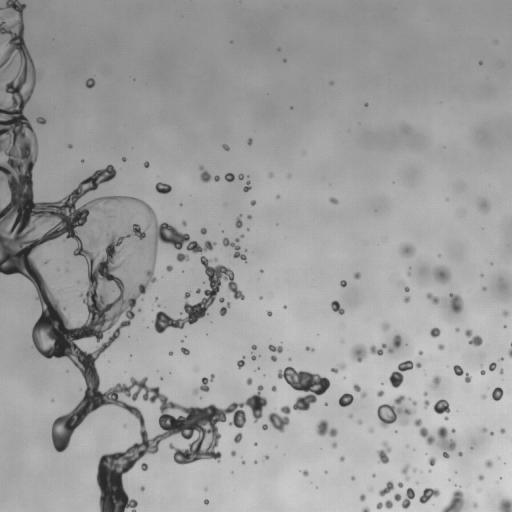droplet: (393, 487, 415, 509), (315, 419, 338, 437), (376, 440, 391, 464), (432, 265, 451, 283), (419, 488, 440, 503), (465, 329, 483, 346), (432, 398, 450, 414), (398, 242, 415, 258), (330, 300, 345, 315), (338, 393, 354, 407), (477, 197, 490, 213), (400, 463, 411, 481), (497, 497, 511, 511), (155, 182, 171, 194), (268, 341, 283, 353), (376, 499, 393, 509), (492, 386, 503, 401), (430, 375, 441, 389), (176, 252, 190, 262), (429, 327, 441, 338), (6, 71, 17, 82), (2, 94, 13, 105), (232, 178, 243, 189), (96, 182, 107, 193), (53, 191, 64, 202), (49, 192, 60, 203), (0, 193, 11, 204), (467, 202, 478, 213), (189, 230, 200, 241), (212, 243, 223, 254), (188, 251, 199, 262), (438, 256, 449, 267), (225, 258, 236, 269), (153, 265, 164, 276), (448, 269, 459, 280), (24, 279, 35, 290), (441, 281, 452, 292), (217, 284, 228, 295), (437, 288, 448, 299), (188, 294, 199, 305), (460, 297, 471, 308), (207, 302, 218, 313), (343, 340, 354, 351), (364, 352, 375, 363), (345, 357, 356, 368), (275, 358, 286, 369), (468, 366, 479, 377), (76, 378, 87, 389), (396, 383, 407, 394), (245, 385, 256, 396), (388, 386, 399, 397), (236, 392, 247, 403), (383, 392, 394, 403), (215, 398, 226, 409), (61, 404, 72, 415), (412, 406, 423, 417), (288, 409, 299, 420), (84, 411, 95, 422), (171, 432, 182, 443), (178, 439, 189, 450), (430, 445, 441, 456), (252, 447, 263, 458), (198, 456, 209, 467), (186, 460, 197, 471), (120, 472, 131, 483), (91, 486, 102, 497), (369, 492, 380, 503), (440, 494, 451, 505), (461, 494, 472, 505), (365, 496, 376, 507), (453, 364, 463, 375), (233, 431, 242, 443), (85, 78, 95, 88), (224, 172, 234, 182), (381, 321, 390, 332), (428, 455, 437, 466), (502, 357, 511, 368), (243, 180, 251, 192), (400, 124, 410, 133), (180, 347, 190, 356), (484, 459, 493, 468), (86, 190, 95, 199), (245, 190, 254, 199), (31, 194, 40, 203), (487, 196, 496, 205), (74, 199, 83, 208), (243, 204, 252, 213), (176, 225, 185, 234), (405, 236, 414, 245), (157, 240, 166, 249), (203, 249, 212, 258), (405, 255, 414, 264), (171, 259, 180, 268), (11, 271, 20, 280), (219, 278, 228, 287), (230, 297, 239, 306), (169, 310, 178, 319), (409, 353, 418, 362), (93, 359, 102, 368), (97, 383, 106, 392), (394, 385, 403, 394), (197, 399, 206, 408), (400, 399, 409, 408), (97, 404, 106, 413), (242, 405, 251, 414), (260, 406, 269, 415), (259, 414, 268, 423), (309, 422, 318, 431), (428, 427, 437, 436), (191, 429, 200, 438), (158, 439, 167, 448), (333, 447, 342, 456), (220, 450, 229, 459), (141, 453, 150, 462), (435, 455, 444, 464), (89, 466, 98, 475), (480, 466, 489, 475), (413, 488, 422, 497), (385, 491, 394, 500), (410, 496, 419, 505), (392, 500, 401, 509), (464, 372, 471, 383), (422, 399, 429, 409), (0, 153, 6, 164), (505, 314, 511, 325), (90, 505, 101, 511), (200, 505, 211, 511), (392, 505, 403, 511), (458, 505, 469, 511), (490, 505, 501, 511), (329, 197, 338, 204), (141, 462, 148, 471), (299, 469, 308, 476), (222, 144, 230, 151), (166, 264, 173, 272), (353, 272, 361, 279), (403, 295, 410, 303), (246, 377, 253, 385), (377, 390, 385, 397), (0, 79, 5, 90), (0, 89, 5, 100), (0, 199, 5, 210), (3, 21, 10, 28), (4, 33, 11, 40), (22, 34, 29, 41), (99, 162, 106, 169), (30, 167, 37, 174), (208, 169, 215, 176), (85, 170, 92, 177), (30, 174, 37, 181), (239, 179, 246, 186), (65, 187, 72, 194), (240, 216, 247, 223), (156, 217, 163, 224), (238, 226, 245, 233), (197, 239, 204, 246), (181, 240, 188, 247), (166, 242, 173, 249), (179, 246, 186, 253), (227, 246, 234, 253), (186, 249, 193, 256), (208, 260, 215, 267), (152, 270, 159, 277), (431, 289, 438, 296), (214, 291, 221, 298), (325, 304, 332, 311), (431, 304, 438, 311), (445, 305, 452, 312), (34, 310, 41, 317), (181, 311, 188, 318), (196, 316, 203, 323), (501, 316, 508, 323), (148, 322, 155, 329), (165, 325, 172, 332), (119, 326, 126, 333), (458, 329, 465, 336), (471, 329, 478, 336), (434, 335, 441, 342), (386, 340, 393, 347), (363, 342, 370, 349), (501, 350, 508, 357), (60, 355, 67, 362), (243, 356, 250, 363), (495, 361, 502, 368), (307, 366, 314, 373), (135, 374, 142, 381), (426, 374, 433, 381), (384, 379, 391, 386), (145, 380, 152, 387), (438, 380, 445, 387), (398, 382, 405, 389), (347, 387, 354, 394), (298, 389, 305, 396), (259, 390, 266, 397), (351, 390, 358, 397), (77, 391, 84, 398), (166, 395, 173, 402), (377, 397, 384, 404), (387, 398, 394, 405), (417, 399, 424, 406), (428, 399, 435, 406), (308, 401, 315, 408), (226, 412, 233, 419), (396, 412, 403, 419), (408, 414, 415, 421), (420, 420, 427, 427), (215, 421, 222, 428), (326, 422, 333, 429), (360, 422, 367, 429), (387, 422, 394, 429), (413, 425, 420, 432), (73, 426, 80, 433), (232, 426, 239, 433), (493, 429, 500, 436), (445, 431, 452, 438), (323, 432, 330, 439), (333, 434, 340, 441), (135, 436, 142, 443), (419, 436, 426, 443), (47, 441, 54, 448), (231, 442, 238, 449), (376, 443, 383, 450), (454, 444, 461, 451), (118, 445, 125, 452), (107, 447, 114, 454), (208, 457, 215, 464), (245, 458, 252, 465), (492, 459, 499, 466), (134, 460, 141, 467), (397, 474, 404, 481), (392, 486, 399, 493), (399, 488, 406, 495), (379, 495, 386, 502), (360, 500, 367, 507), (238, 173, 244, 181), (400, 419, 408, 425), (331, 440, 337, 448), (359, 493, 365, 501), (361, 506, 370, 511), (506, 426, 511, 435), (506, 492, 511, 501), (368, 506, 377, 511), (379, 506, 388, 511), (200, 227, 206, 234), (64, 267, 71, 273), (340, 280, 346, 287), (266, 310, 273, 316), (502, 310, 508, 317), (437, 344, 444, 350), (270, 355, 277, 361), (192, 366, 199, 372), (270, 384, 276, 391), (367, 427, 374, 433), (230, 450, 236, 457), (339, 456, 345, 463), (397, 481, 403, 488), (250, 200, 256, 206), (181, 220, 187, 226), (261, 424, 267, 430), (481, 427, 487, 433), (412, 467, 418, 473), (478, 474, 484, 480), (472, 502, 478, 508), (247, 138, 252, 145), (500, 427, 505, 434), (144, 161, 149, 167), (268, 172, 273, 178), (195, 288, 201, 293), (219, 297, 224, 303), (480, 369, 485, 375), (480, 394, 486, 399), (357, 419, 362, 425), (368, 486, 373, 492), (204, 499, 209, 505), (507, 322, 511, 329), (123, 507, 130, 511), (355, 507, 362, 511), (403, 507, 410, 511), (471, 507, 478, 511), (247, 214, 252, 219), (168, 350, 173, 355), (348, 413, 353, 418), (140, 486, 145, 491), (0, 0, 5, 5), (8, 6, 13, 11), (21, 8, 26, 13), (13, 10, 18, 15), (22, 20, 27, 25), (30, 54, 35, 59), (481, 58, 486, 63), (32, 59, 37, 64), (33, 62, 38, 67), (34, 73, 39, 78), (87, 73, 92, 78), (93, 76, 98, 81), (5, 78, 10, 83), (80, 81, 85, 86), (89, 86, 94, 91), (32, 87, 37, 92), (30, 93, 35, 98), (43, 114, 48, 119), (243, 136, 248, 141), (36, 138, 41, 143), (251, 139, 256, 144), (113, 165, 118, 170), (224, 168, 229, 173), (197, 169, 202, 174), (82, 174, 87, 179), (219, 175, 224, 180), (233, 175, 238, 180), (242, 176, 247, 181), (209, 177, 214, 182), (108, 178, 113, 183), (165, 179, 170, 184), (224, 180, 229, 185), (202, 181, 207, 186), (72, 184, 77, 189), (108, 191, 113, 196), (114, 191, 119, 196), (121, 191, 126, 196), (159, 192, 164, 197), (134, 193, 139, 198), (332, 193, 337, 198), (145, 199, 150, 204), (148, 202, 153, 207), (329, 202, 334, 207), (185, 218, 190, 223), (231, 218, 236, 223), (167, 220, 172, 225), (205, 227, 210, 232), (222, 232, 227, 237), (188, 236, 193, 241), (208, 237, 213, 242), (228, 237, 233, 242), (238, 248, 243, 253), (155, 254, 160, 259), (235, 256, 240, 261), (181, 259, 186, 264), (200, 265, 205, 270), (353, 267, 358, 272), (170, 268, 175, 273), (203, 274, 208, 279), (359, 274, 364, 279), (232, 277, 237, 282), (236, 285, 241, 290), (452, 290, 457, 295), (229, 291, 234, 296), (403, 291, 408, 296), (139, 292, 144, 297), (421, 294, 426, 299), (330, 296, 335, 301), (409, 296, 414, 301), (135, 298, 140, 303), (426, 298, 431, 303), (399, 299, 404, 304), (221, 301, 226, 306), (338, 303, 343, 308), (158, 306, 163, 311), (268, 306, 273, 311), (504, 306, 509, 311), (131, 307, 136, 312), (154, 307, 159, 312), (225, 307, 230, 312), (498, 313, 503, 318), (151, 314, 156, 319), (129, 318, 134, 323), (184, 321, 189, 326), (192, 321, 197, 326), (435, 323, 440, 328), (466, 324, 471, 329), (426, 326, 431, 331), (27, 329, 32, 334), (439, 330, 444, 335), (426, 333, 431, 338), (467, 335, 472, 340), (480, 335, 485, 340), (114, 337, 119, 342), (28, 339, 33, 344), (399, 340, 404, 345), (110, 341, 115, 346), (273, 342, 278, 347), (307, 342, 312, 347), (183, 343, 188, 348), (469, 343, 474, 348), (376, 344, 381, 349), (505, 344, 510, 349), (443, 345, 448, 350), (392, 346, 397, 351), (32, 347, 37, 352), (104, 347, 109, 352), (382, 347, 387, 352), (281, 348, 286, 353), (252, 349, 257, 354), (438, 349, 443, 354), (272, 350, 277, 355), (99, 351, 104, 356), (178, 351, 183, 356), (421, 352, 426, 357), (373, 353, 378, 358), (39, 354, 44, 359), (50, 355, 55, 360), (361, 357, 366, 362), (400, 357, 405, 362), (353, 360, 358, 365), (455, 360, 460, 365), (286, 361, 291, 366), (331, 363, 336, 368), (240, 365, 245, 370), (483, 365, 488, 370), (393, 366, 398, 371), (494, 366, 499, 371), (295, 367, 300, 372), (462, 367, 467, 372), (337, 368, 342, 373), (400, 370, 405, 375), (386, 371, 391, 376), (272, 372, 277, 377), (319, 372, 324, 377), (205, 373, 210, 378), (460, 373, 465, 378), (280, 377, 285, 382), (241, 378, 246, 383), (469, 378, 474, 383), (197, 380, 202, 385), (125, 381, 130, 386), (206, 381, 211, 386), (463, 381, 468, 386), (285, 383, 290, 388), (81, 384, 86, 389), (378, 385, 383, 390), (359, 386, 364, 391), (489, 386, 494, 391), (501, 386, 506, 391), (158, 388, 163, 393), (324, 388, 329, 393), (200, 390, 205, 395), (372, 390, 377, 395), (337, 392, 342, 397), (403, 393, 408, 398), (501, 393, 506, 398), (411, 395, 416, 400), (424, 395, 429, 400), (490, 398, 495, 403), (334, 399, 339, 404), (495, 399, 500, 404), (350, 400, 355, 405), (280, 401, 285, 406), (393, 403, 398, 408), (345, 404, 350, 409), (373, 404, 378, 409), (447, 404, 452, 409), (289, 407, 294, 412), (123, 408, 128, 413), (300, 409, 305, 414), (372, 410, 377, 415), (441, 411, 446, 416), (352, 415, 357, 420), (375, 417, 380, 422), (134, 418, 139, 423), (266, 421, 271, 426), (230, 423, 235, 428), (501, 423, 506, 428), (282, 424, 287, 429), (486, 427, 491, 432), (273, 428, 278, 433), (446, 428, 451, 433), (484, 430, 489, 435), (501, 432, 506, 437), (240, 436, 245, 441), (188, 437, 193, 442), (217, 437, 222, 442), (128, 441, 133, 446), (387, 441, 392, 446), (336, 442, 341, 447), (213, 447, 218, 452), (330, 447, 335, 452), (170, 448, 175, 453), (446, 449, 451, 454), (154, 451, 159, 456), (234, 452, 239, 457), (385, 452, 390, 457), (219, 455, 224, 460), (375, 455, 380, 460), (500, 456, 505, 461), (490, 457, 495, 462), (194, 459, 199, 464), (337, 460, 342, 465), (378, 461, 383, 466), (433, 461, 438, 466), (383, 462, 388, 467), (399, 463, 404, 468), (425, 463, 430, 468), (300, 465, 305, 470), (146, 466, 151, 471), (307, 469, 312, 474), (406, 469, 411, 474), (303, 475, 308, 480), (473, 475, 478, 480), (479, 479, 484, 484), (392, 482, 397, 487), (381, 483, 386, 488), (425, 483, 430, 488), (430, 484, 435, 489), (355, 492, 360, 497), (429, 495, 434, 500), (419, 502, 424, 507), (134, 505, 139, 510), (154, 296, 158, 302), (458, 451, 462, 457), (17, 0, 24, 3), (0, 54, 3, 61), (0, 271, 3, 278), (478, 60, 482, 65), (329, 81, 334, 85), (68, 144, 73, 148), (122, 157, 126, 162), (287, 173, 291, 178), (407, 271, 411, 276), (482, 286, 486, 291), (283, 304, 287, 309), (455, 327, 459, 332), (423, 391, 427, 396), (444, 416, 449, 420), (451, 428, 455, 433), (489, 431, 494, 435), (253, 459, 257, 464), (241, 460, 245, 465), (350, 476, 355, 480), (476, 488, 481, 492), (277, 47, 281, 51), (282, 58, 286, 62), (364, 102, 368, 106), (445, 197, 449, 201), (56, 267, 60, 271), (259, 269, 263, 273), (157, 303, 161, 307), (137, 308, 141, 312), (276, 194, 279, 199), (508, 310, 511, 315), (229, 40, 233, 43), (81, 159, 84, 163), (246, 227, 249, 231), (437, 254, 441, 257), (480, 273, 483, 277), (499, 277, 503, 280), (202, 280, 205, 284), (259, 296, 263, 299), (288, 357, 291, 361), (263, 373, 266, 377), (160, 376, 163, 380), (342, 376, 346, 379), (51, 398, 54, 402), (324, 402, 327, 406), (254, 442, 257, 446), (497, 456, 500, 460), (324, 470, 327, 474), (372, 473, 375, 477), (204, 487, 207, 491), (290, 106, 293, 109), (179, 203, 182, 206), (244, 248, 247, 251), (490, 262, 493, 265), (181, 270, 184, 273), (503, 325, 506, 328), (180, 339, 183, 342), (480, 364, 483, 367), (79, 388, 82, 391), (123, 424, 126, 427), (394, 430, 397, 433), (406, 444, 409, 447), (470, 446, 473, 449), (412, 448, 415, 451), (428, 469, 431, 472), (454, 470, 457, 473), (499, 476, 502, 479), (415, 481, 418, 484), (454, 484, 457, 487), (315, 486, 318, 489), (283, 55, 286, 58), (280, 60, 283, 63), (285, 60, 288, 63), (476, 63, 479, 66), (479, 64, 482, 67), (1, 65, 4, 68), (361, 102, 364, 105), (367, 103, 370, 106), (292, 105, 295, 108), (364, 106, 367, 109), (288, 108, 291, 111), (38, 113, 41, 116), (68, 140, 71, 143), (64, 143, 67, 146), (227, 143, 230, 146), (69, 147, 72, 150), (228, 148, 231, 151), (223, 149, 226, 152), (121, 153, 124, 156), (79, 156, 82, 159), (83, 159, 86, 162), (125, 159, 128, 162), (120, 160, 123, 163), (148, 163, 151, 166), (141, 164, 144, 167), (144, 167, 147, 170), (230, 170, 233, 173), (161, 180, 164, 183), (215, 180, 218, 183), (230, 180, 233, 183), (247, 189, 250, 192), (132, 194, 135, 197), (279, 195, 282, 198), (177, 200, 180, 203), (182, 202, 185, 205), (248, 203, 251, 206), (176, 204, 179, 207), (180, 205, 183, 208), (248, 226, 251, 229), (219, 227, 222, 230), (197, 228, 200, 231), (227, 244, 230, 247), (245, 262, 248, 265), (224, 264, 227, 267), (163, 265, 166, 268), (261, 266, 264, 269), (405, 267, 408, 270), (256, 268, 259, 271), (408, 269, 411, 272), (183, 270, 186, 273), (257, 271, 260, 274), (482, 271, 485, 274), (180, 272, 183, 275), (260, 272, 263, 275), (483, 274, 486, 277), (339, 277, 342, 280), (337, 281, 340, 284), (345, 283, 348, 286), (404, 283, 407, 286), (482, 283, 485, 286), (478, 286, 481, 289), (486, 286, 489, 289), (194, 287, 197, 290), (184, 288, 187, 291), (401, 288, 404, 291), (481, 290, 484, 293), (241, 291, 244, 294), (259, 292, 262, 295), (154, 293, 157, 296), (181, 293, 184, 296), (151, 297, 154, 300), (237, 297, 240, 300), (243, 297, 246, 300), (260, 298, 263, 301), (156, 299, 159, 302), (280, 303, 283, 306), (286, 305, 289, 308), (281, 307, 284, 310), (271, 312, 274, 315), (341, 313, 344, 316), (265, 314, 268, 317), (503, 321, 506, 324), (500, 324, 503, 327), (506, 324, 509, 327), (503, 327, 506, 330), (452, 328, 455, 331), (207, 332, 210, 335), (181, 336, 184, 339), (254, 342, 257, 345), (265, 344, 268, 347), (302, 346, 305, 349), (314, 348, 317, 351), (166, 349, 169, 352), (165, 352, 168, 355), (188, 352, 191, 355), (126, 353, 129, 356), (131, 354, 134, 357), (185, 354, 188, 357), (419, 354, 422, 357), (168, 355, 171, 358), (497, 355, 500, 358), (239, 356, 242, 359), (253, 359, 256, 362), (269, 359, 272, 362), (488, 360, 491, 363), (71, 363, 74, 366), (235, 364, 238, 367), (259, 366, 262, 369), (255, 369, 258, 372), (451, 369, 454, 372), (502, 369, 505, 372), (165, 370, 168, 373), (264, 371, 267, 374), (477, 371, 480, 374), (480, 374, 483, 377), (162, 376, 165, 379), (212, 377, 215, 380), (377, 380, 380, 383), (269, 384, 272, 387), (497, 384, 500, 387), (420, 391, 423, 394), (364, 395, 367, 398), (323, 405, 326, 408), (479, 426, 482, 429), (259, 427, 262, 430), (454, 427, 457, 430), (504, 428, 507, 431), (263, 429, 266, 432), (454, 430, 457, 433), (393, 432, 396, 435), (491, 434, 494, 437), (251, 440, 254, 443), (256, 443, 259, 446), (471, 443, 474, 446), (468, 448, 471, 451), (263, 452, 266, 455), (461, 452, 464, 455), (337, 454, 340, 457), (268, 455, 271, 458), (457, 455, 460, 458), (262, 456, 265, 459), (442, 456, 445, 459), (241, 457, 244, 460), (251, 458, 254, 461), (266, 458, 269, 461), (343, 458, 346, 461), (256, 459, 259, 462), (504, 459, 507, 462), (244, 460, 247, 463), (500, 460, 503, 463), (238, 461, 241, 464), (254, 463, 257, 466), (325, 467, 328, 470), (142, 470, 145, 473), (327, 470, 330, 473), (415, 470, 418, 473), (299, 471, 302, 474), (321, 471, 324, 474), (451, 471, 454, 474), (375, 472, 378, 475), (428, 472, 431, 475), (368, 473, 371, 476), (499, 473, 502, 476), (354, 475, 357, 478), (347, 476, 350, 479), (373, 476, 376, 479), (496, 476, 499, 479), (501, 476, 504, 479), (444, 478, 447, 481), (352, 479, 355, 482), (498, 479, 501, 482), (456, 482, 459, 485), (137, 486, 140, 489), (143, 488, 146, 491), (208, 499, 211, 502), (200, 500, 203, 503), (207, 502, 210, 505), (203, 503, 206, 506), (276, 222, 278, 225), (409, 266, 411, 269), (146, 326, 149, 328), (130, 354, 132, 357), (66, 369, 68, 372), (487, 386, 489, 389), (200, 396, 202, 399), (503, 462, 506, 464), (231, 470, 233, 473), (448, 478, 450, 481), (133, 78, 135, 80), (247, 175, 249, 177), (392, 181, 394, 183), (221, 230, 223, 232), (141, 298, 143, 300), (184, 335, 186, 337), (405, 343, 407, 345), (169, 372, 171, 374), (275, 445, 277, 447), (425, 453, 427, 455), (310, 481, 312, 483), (0, 20, 1, 23), (206, 333, 207, 335), (317, 333, 318, 335), (156, 370, 158, 371)
ligament: (380, 350, 428, 388), (349, 334, 401, 363), (426, 292, 463, 313), (436, 425, 456, 458), (440, 485, 464, 511), (413, 418, 436, 445), (192, 373, 214, 395), (198, 165, 220, 182), (378, 480, 395, 496), (488, 356, 503, 371), (353, 383, 367, 398), (219, 301, 231, 316), (330, 362, 346, 373), (237, 355, 246, 369), (400, 281, 409, 293), (235, 213, 242, 228), (407, 397, 417, 406), (305, 346, 315, 352), (508, 342, 511, 358), (254, 366, 260, 372), (499, 367, 503, 374), (66, 261, 69, 263)
